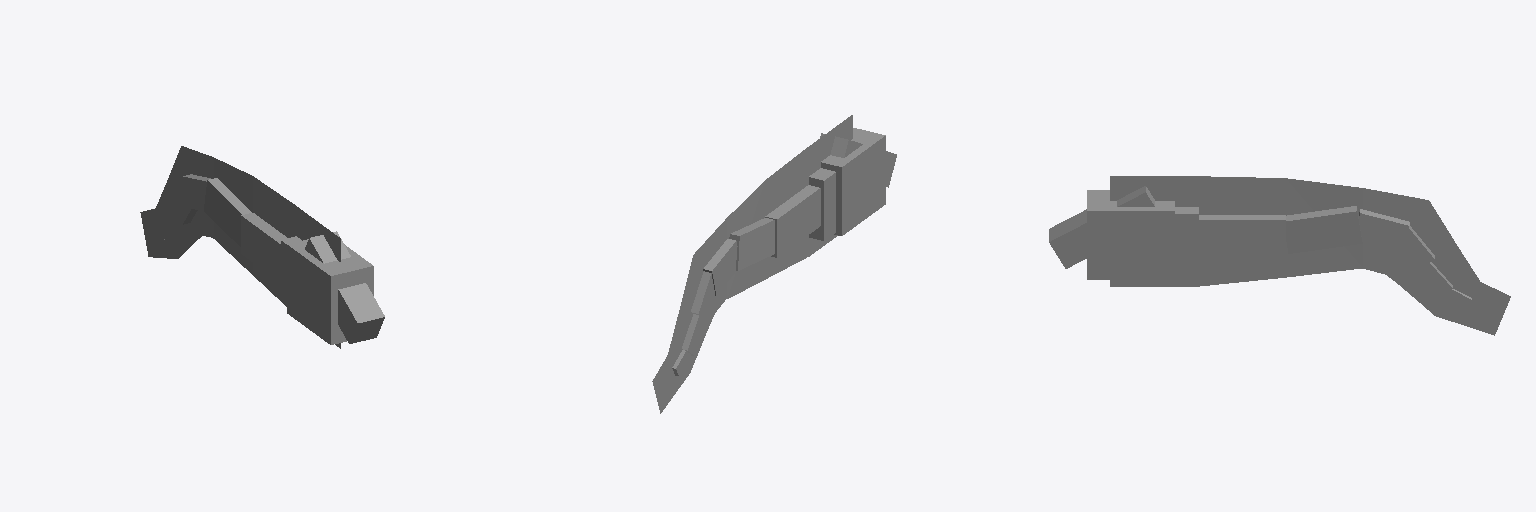
File: abaia.obj
3 renders of one model, left to right at view 1: azimuth 30°, elevation 25°; view 2: azimuth 150°, elevation 25°; view 3: azimuth 270°, elevation 25°, orthographic.
Visible parts, largest first — view 1: Head, Body, Tail01, Tail02; view 2: Body, Head, Tail01, Tail02; view 3: Body, Head, Tail01, Tail02.
Boxes of the visible parts, x1=… form: Head: x1=281, y1=207, x2=384, y2=348; Body: x1=204, y1=158, x2=296, y2=306; Tail01: x1=168, y1=146, x2=213, y2=238; Tail02: x1=140, y1=179, x2=198, y2=258; Body: x1=726, y1=147, x2=820, y2=298; Head: x1=809, y1=115, x2=896, y2=256; Tail01: x1=680, y1=219, x2=737, y2=321; Tail02: x1=652, y1=307, x2=710, y2=413; Body: x1=1198, y1=176, x2=1362, y2=286; Head: x1=1049, y1=176, x2=1198, y2=286; Tail01: x1=1359, y1=188, x2=1454, y2=280; Tail02: x1=1394, y1=243, x2=1510, y2=335.
Size of the model in its own units: 0.3162 by 1.12 by 2.95.